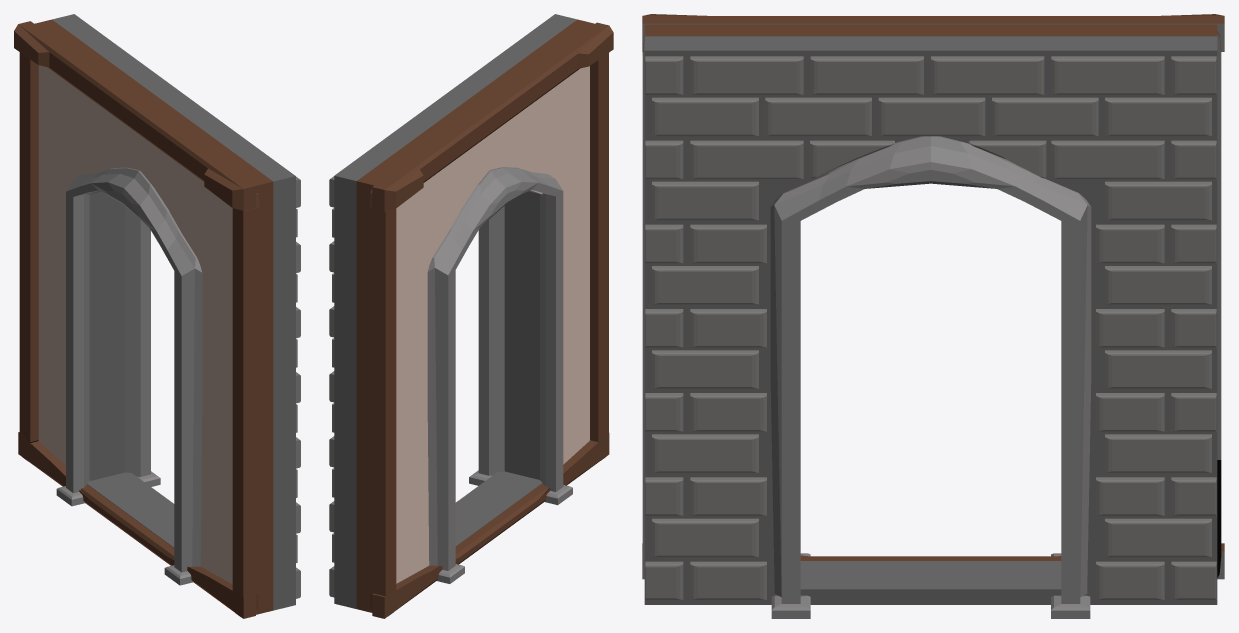
File: broken_FlaskSquare.fbx_floor3.fbx_archway2.fbx
3 renders of one model, left to right at view 1: azimuth 30°, elevation 25°; view 2: azimuth 150°, elevation 25°; view 3: azimuth 270°, elevation 25°, orthographic. The views are drawn at different scales.
Parts seen in each view (by area): view 1: Cube.005; view 2: Cube.005; view 3: Cube.005.
Boxes of the visible parts, <box> form: Cube.005: <box>14,14,300,618</box>; Cube.005: <box>329,14,613,618</box>; Cube.005: <box>642,14,1224,618</box>.
Bounding box in the file's own units: 42.73 × 198 × 188.
